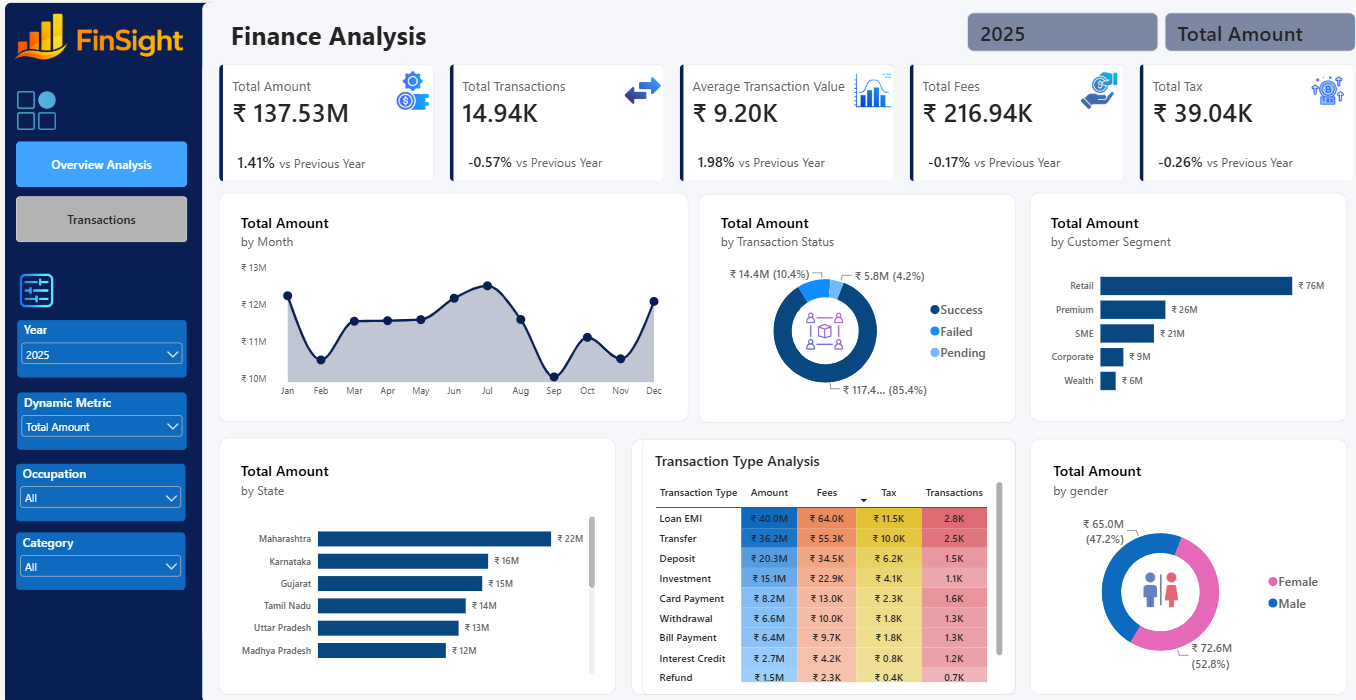

Layout of this report page (visuals, bound fields, positions):
{"tool":"powerbi","page":{"name":"Overview Analysis","canvas":[1800,950],"ordinal":0},"visuals":[{"type":"shape","box":[18.3,16.7,279.6,919],"z":0},{"type":"shape","box":[276.7,16.7,1508.3,916.7],"z":1000},{"type":"image","box":[11.7,16.7,265,90],"z":2000},{"type":"cardVisual","fields":{"Data":["finance_transactions.title"]},"box":[298.3,16.7,398.3,80],"z":3000},{"type":"cardVisual","fields":{"Data":["finance_transactions.Total Amount","finance_transactions.Total Transactions","finance_transactions.Average Transaction Value","finance_transactions.Total Fees","finance_transactions.Total Tax"]},"box":[298.3,96.7,1488,155],"z":4000},{"type":"slicer","fields":{"Values":["Calendar Table.Year"]},"box":[35,431.7,221.7,75],"z":5000},{"type":"image","box":[526.7,106.7,50,50],"z":6000},{"type":"image","box":[826.7,106.7,50,50],"z":7000},{"type":"image","box":[1425,106.7,50,50],"z":8000},{"type":"image","box":[1128.3,106.7,50,50],"z":9000},{"type":"image","box":[1723.3,106.7,50,50],"z":10000},{"type":"slicer","fields":{"Values":["Dynamic Metric.Dynamic Metric"]},"box":[35,526.7,221.7,75],"z":11000},{"type":"shape","box":[298.3,265,615,300],"z":12000},{"type":"areaChart","fields":{"Y":["finance_transactions.Total Amount"],"Category":["Calendar Table.Month"]},"box":[310,276.7,590,276.7],"z":13000},{"type":"cardVisual","fields":{"Data":["finance_transactions.Selected Year","finance_transactions.Selected Dynamic Measure"]},"box":[1276.7,30,508.3,51.7],"z":14000},{"type":"shape","box":[925.5,266.5,415,300],"z":15000},{"type":"donutChart","fields":{"Y":["finance_transactions.Total Amount"],"Category":["finance_transactions.transaction_status"]},"box":[938.6,276.3,388.3,276.7],"z":16000},{"type":"shape","box":[1358.8,264.9,415,300],"z":17000},{"type":"barChart","fields":{"Y":["finance_transactions.Total Amount"],"Category":["customers.customer_segment"]},"box":[1370.3,276.3,390.8,276.3],"z":18000},{"type":"shape","box":[297.6,585.4,520,336.8],"z":19000},{"type":"barChart","fields":{"Y":["finance_transactions.Total Amount"],"Category":["customers.state"]},"box":[310.7,601.7,495.5,309],"z":20000},{"type":"shape","box":[837.2,587,503.6,335.2],"z":21000},{"type":"tableEx","title":"Transaction Type Analysis","fields":{"Values":["finance_transactions.transaction_type","finance_transactions.Total Amount","finance_transactions.Total Fees","finance_transactions.Total Tax","finance_transactions.Total Transactions"]},"box":[851.9,587,488.9,335.2],"z":22000},{"type":"shape","box":[1358.8,587,415.3,335.2],"z":23000},{"type":"donutChart","fields":{"Y":["finance_transactions.Total Amount"],"Category":["customers.gender"]},"box":[1373.6,601.7,387.5,309],"z":24000},{"type":"image","box":[1064.5,418.6,52.3,55.6],"z":25000},{"type":"image","box":[1504.4,757.1,52.3,55.6],"z":26000},{"type":"slicer","fields":{"Values":["customers.occupation"]},"box":[32.7,619.7,221.7,75],"z":27000},{"type":"slicer","fields":{"Values":["finance_transactions.merchant_category"]},"box":[32.7,709.7,221.7,75],"z":28000},{"type":"pageNavigator","box":[32.7,197.9,224,132.4],"z":29000},{"type":"image","box":[34.3,132.4,50,50],"z":29001},{"type":"image","box":[34.3,367.9,50,50],"z":29002}]}

Visuals, with their boxes on the page's 1800x950 design canvas (x1, y1, x2, y2). These are canvas units, not pixel positions in the 1356x700 screenshot, which may show the page scaled, cropped or inside an application window:
shape: Rect(18, 17, 298, 936)
shape: Rect(277, 17, 1785, 933)
image: Rect(12, 17, 277, 107)
cardVisual - finance_transactions.title: Rect(298, 17, 697, 97)
cardVisual - finance_transactions.Total Amount x finance_transactions.Total Transactions: Rect(298, 97, 1786, 252)
slicer - Calendar Table.Year: Rect(35, 432, 257, 507)
image: Rect(527, 107, 577, 157)
image: Rect(827, 107, 877, 157)
image: Rect(1425, 107, 1475, 157)
image: Rect(1128, 107, 1178, 157)
image: Rect(1723, 107, 1773, 157)
slicer - Dynamic Metric.Dynamic Metric: Rect(35, 527, 257, 602)
shape: Rect(298, 265, 913, 565)
areaChart - finance_transactions.Total Amount x Calendar Table.Month: Rect(310, 277, 900, 553)
cardVisual - finance_transactions.Selected Year x finance_transactions.Selected Dynamic Measure: Rect(1277, 30, 1785, 82)
shape: Rect(926, 266, 1340, 566)
donutChart - finance_transactions.Total Amount x finance_transactions.transaction_status: Rect(939, 276, 1327, 553)
shape: Rect(1359, 265, 1774, 565)
barChart - finance_transactions.Total Amount x customers.customer_segment: Rect(1370, 276, 1761, 553)
shape: Rect(298, 585, 818, 922)
barChart - finance_transactions.Total Amount x customers.state: Rect(311, 602, 806, 911)
shape: Rect(837, 587, 1341, 922)
"Transaction Type Analysis" tableEx: Rect(852, 587, 1341, 922)
shape: Rect(1359, 587, 1774, 922)
donutChart - finance_transactions.Total Amount x customers.gender: Rect(1374, 602, 1761, 911)
image: Rect(1064, 419, 1117, 474)
image: Rect(1504, 757, 1557, 813)
slicer - customers.occupation: Rect(33, 620, 254, 695)
slicer - finance_transactions.merchant_category: Rect(33, 710, 254, 785)
pageNavigator: Rect(33, 198, 257, 330)
image: Rect(34, 132, 84, 182)
image: Rect(34, 368, 84, 418)
